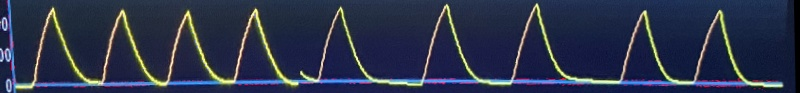normal_volume: (15, 0, 766, 93)
